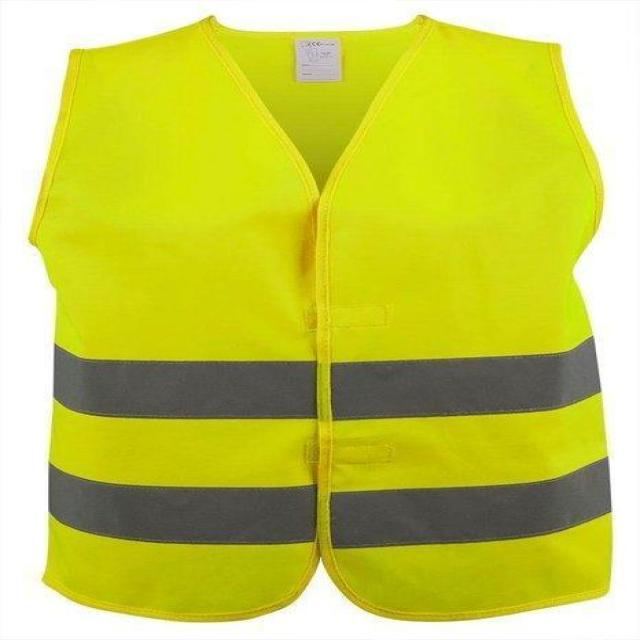Vest: (33, 4, 614, 619)
